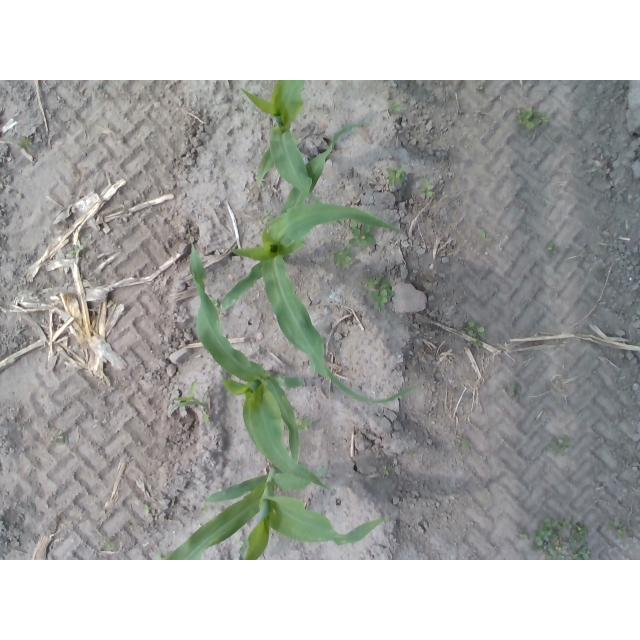Maize: (218, 123, 416, 405), (185, 228, 331, 493), (160, 462, 392, 560), (239, 81, 326, 208)
Weeds: (530, 517, 591, 560), (169, 381, 211, 425), (368, 278, 396, 310), (348, 217, 376, 247), (515, 109, 542, 132), (333, 246, 353, 270), (551, 437, 574, 457), (292, 411, 313, 432), (464, 320, 488, 338), (386, 167, 407, 186), (419, 178, 435, 198), (387, 99, 402, 114), (258, 211, 274, 225), (478, 228, 492, 244), (56, 432, 70, 445), (70, 244, 85, 256), (509, 381, 521, 396), (209, 297, 220, 313), (546, 243, 559, 256), (20, 136, 33, 148), (238, 539, 248, 554), (606, 520, 622, 529), (469, 339, 483, 349), (460, 436, 469, 450), (617, 526, 627, 538), (154, 552, 167, 560), (379, 465, 389, 475), (516, 533, 529, 540), (145, 502, 152, 514), (201, 507, 212, 513), (542, 114, 550, 122), (106, 542, 114, 550), (477, 83, 483, 90)
